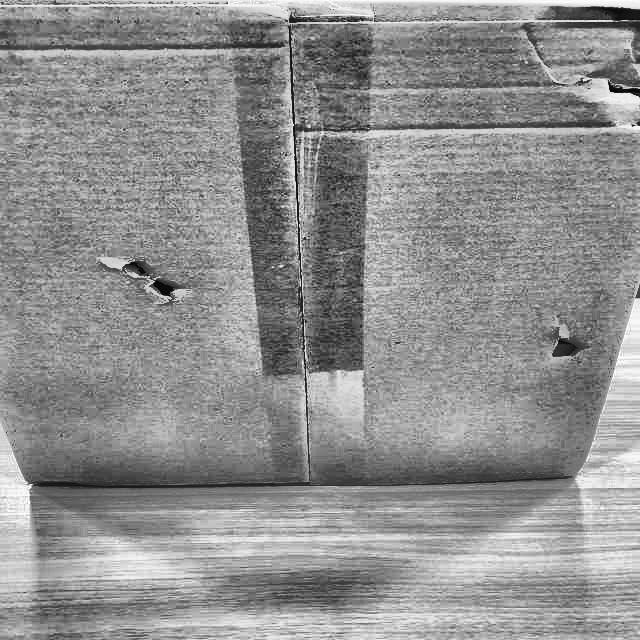box: (0, 0, 639, 497)
hole: (117, 253, 190, 304), (540, 330, 596, 364)
